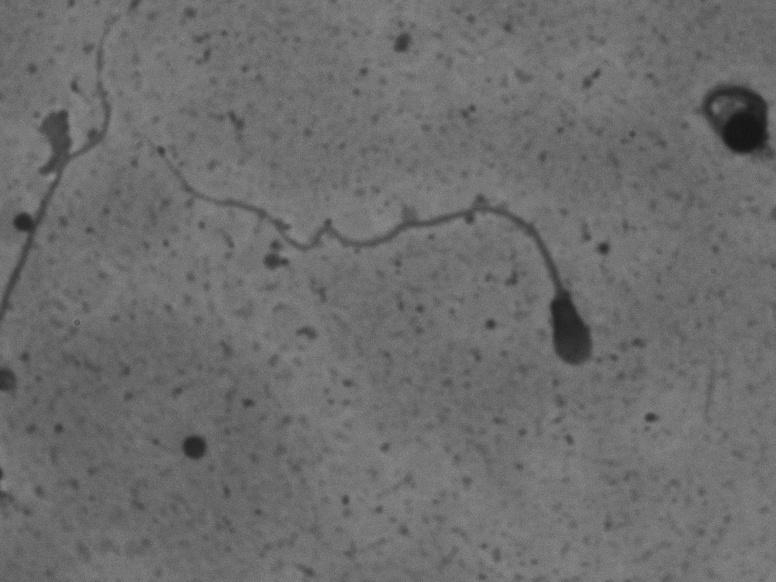Abnormal: (139, 116, 613, 380)
